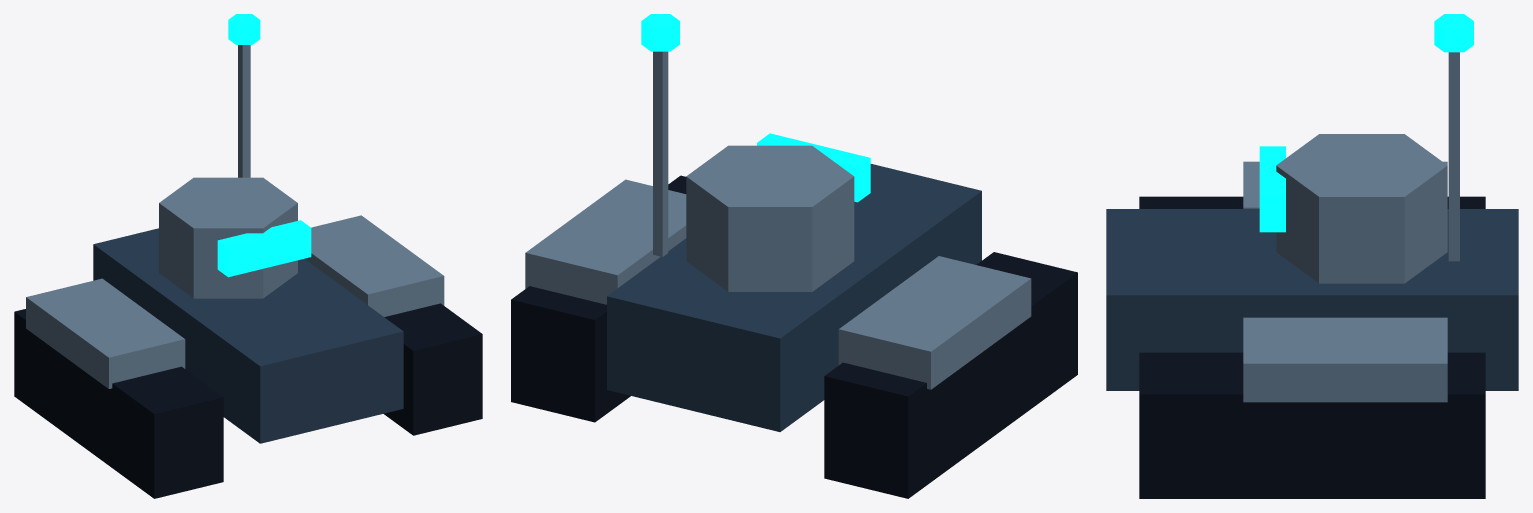
File: scout_low.glb
3 views of the same model, side by side, from view 1: azimuth 30°, elevation 25°; view 2: azimuth 150°, elevation 25°; view 3: azimuth 270°, elevation 25° (orthographic). The views are drawn at different scales.
Parts seen in each view (by area): view 1: Recon keel, Hover nacelle, Sensor gimbal, Nacelle armor, Hover nacelle.001, Nacelle armor.001, Optical array, Antenna mast, Mast beacon; view 2: Recon keel, Hover nacelle, Sensor gimbal, Nacelle armor, Hover nacelle.001, Nacelle armor.001, Antenna mast, Optical array, Mast beacon; view 3: Recon keel, Hover nacelle.001, Sensor gimbal, Nacelle armor.001, Antenna mast, Optical array, Hover nacelle, Mast beacon, Nacelle armor.
Boxes of the visible parts, x1,y1,x2,y2 form: Recon keel: (93, 228, 403, 443); Hover nacelle: (14, 309, 223, 498); Sensor gimbal: (159, 177, 297, 298); Nacelle armor: (26, 278, 185, 388); Hover nacelle.001: (383, 303, 482, 435); Nacelle armor.001: (304, 215, 444, 316); Optical array: (217, 220, 311, 277); Antenna mast: (238, 45, 250, 177); Mast beacon: (228, 14, 260, 44); Recon keel: (607, 164, 981, 431); Hover nacelle: (824, 252, 1077, 498); Sensor gimbal: (686, 145, 854, 291); Nacelle armor: (838, 256, 1031, 389); Hover nacelle.001: (511, 175, 686, 422); Nacelle armor.001: (525, 179, 686, 304); Antenna mast: (653, 51, 668, 256); Optical array: (757, 133, 870, 202); Mast beacon: (641, 14, 679, 51); Recon keel: (1106, 209, 1518, 390); Hover nacelle.001: (1139, 352, 1485, 498); Sensor gimbal: (1276, 134, 1447, 283); Nacelle armor.001: (1243, 317, 1447, 402); Antenna mast: (1448, 52, 1459, 261); Optical array: (1259, 146, 1285, 232); Hover nacelle: (1139, 196, 1485, 208); Mast beacon: (1434, 14, 1473, 52); Nacelle armor: (1243, 161, 1447, 208).
Bounding box in the file's own units: 1.45 × 1.39 × 1.25.
